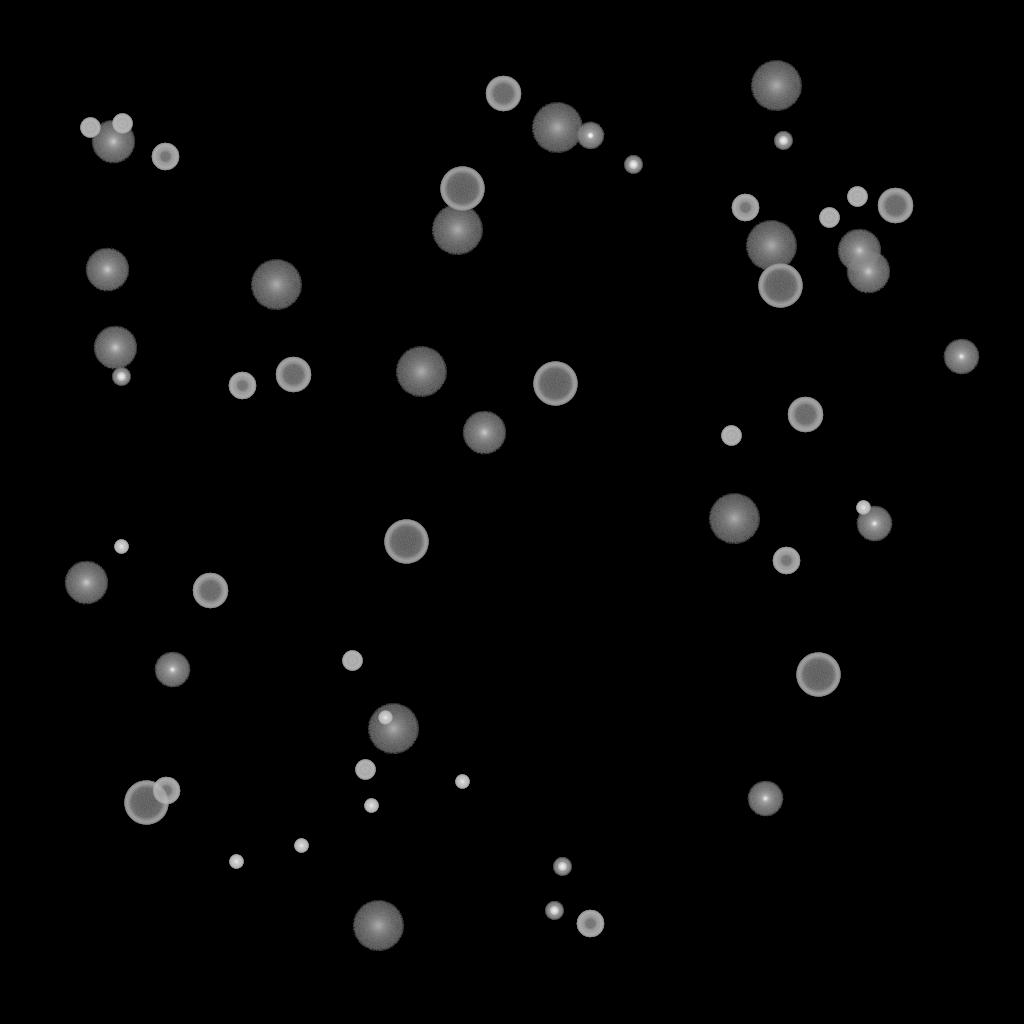depth:-10: (576, 122, 604, 150)
depth:-20: (545, 902, 563, 920), (553, 858, 571, 876), (112, 368, 130, 386), (774, 132, 792, 150), (624, 156, 642, 174)
depth:-30: (856, 501, 870, 515), (455, 775, 469, 789), (364, 799, 378, 813), (114, 540, 128, 554), (229, 855, 243, 869), (378, 711, 392, 725), (294, 839, 308, 853)
depth:-40: (342, 651, 362, 671), (819, 208, 839, 228), (112, 114, 132, 134), (80, 118, 100, 138), (847, 187, 867, 207), (355, 760, 375, 780), (721, 426, 741, 446)
depth:-50: (151, 143, 179, 171), (576, 910, 604, 938), (228, 372, 256, 400), (731, 194, 759, 222), (152, 777, 180, 805), (772, 547, 800, 575)
depth:-60: (485, 76, 521, 112), (787, 397, 823, 433), (877, 188, 913, 224), (192, 573, 228, 609), (275, 357, 311, 393)
depth:-70: (440, 167, 484, 211), (533, 362, 577, 406), (796, 653, 840, 697), (758, 264, 802, 308), (384, 520, 428, 564), (124, 781, 168, 825)
depth:0: (856, 506, 892, 542), (747, 781, 783, 817), (154, 652, 190, 688), (943, 339, 979, 375)
depth:10: (64, 561, 108, 605), (91, 120, 135, 164), (93, 326, 137, 370), (846, 250, 890, 294), (837, 229, 881, 273), (462, 411, 506, 455), (85, 248, 129, 292)
depth:20: (531, 103, 583, 153), (750, 61, 802, 111), (395, 347, 447, 397), (250, 260, 302, 310), (745, 221, 797, 271), (708, 494, 760, 544), (431, 205, 483, 255), (352, 901, 404, 951), (367, 704, 419, 754)
